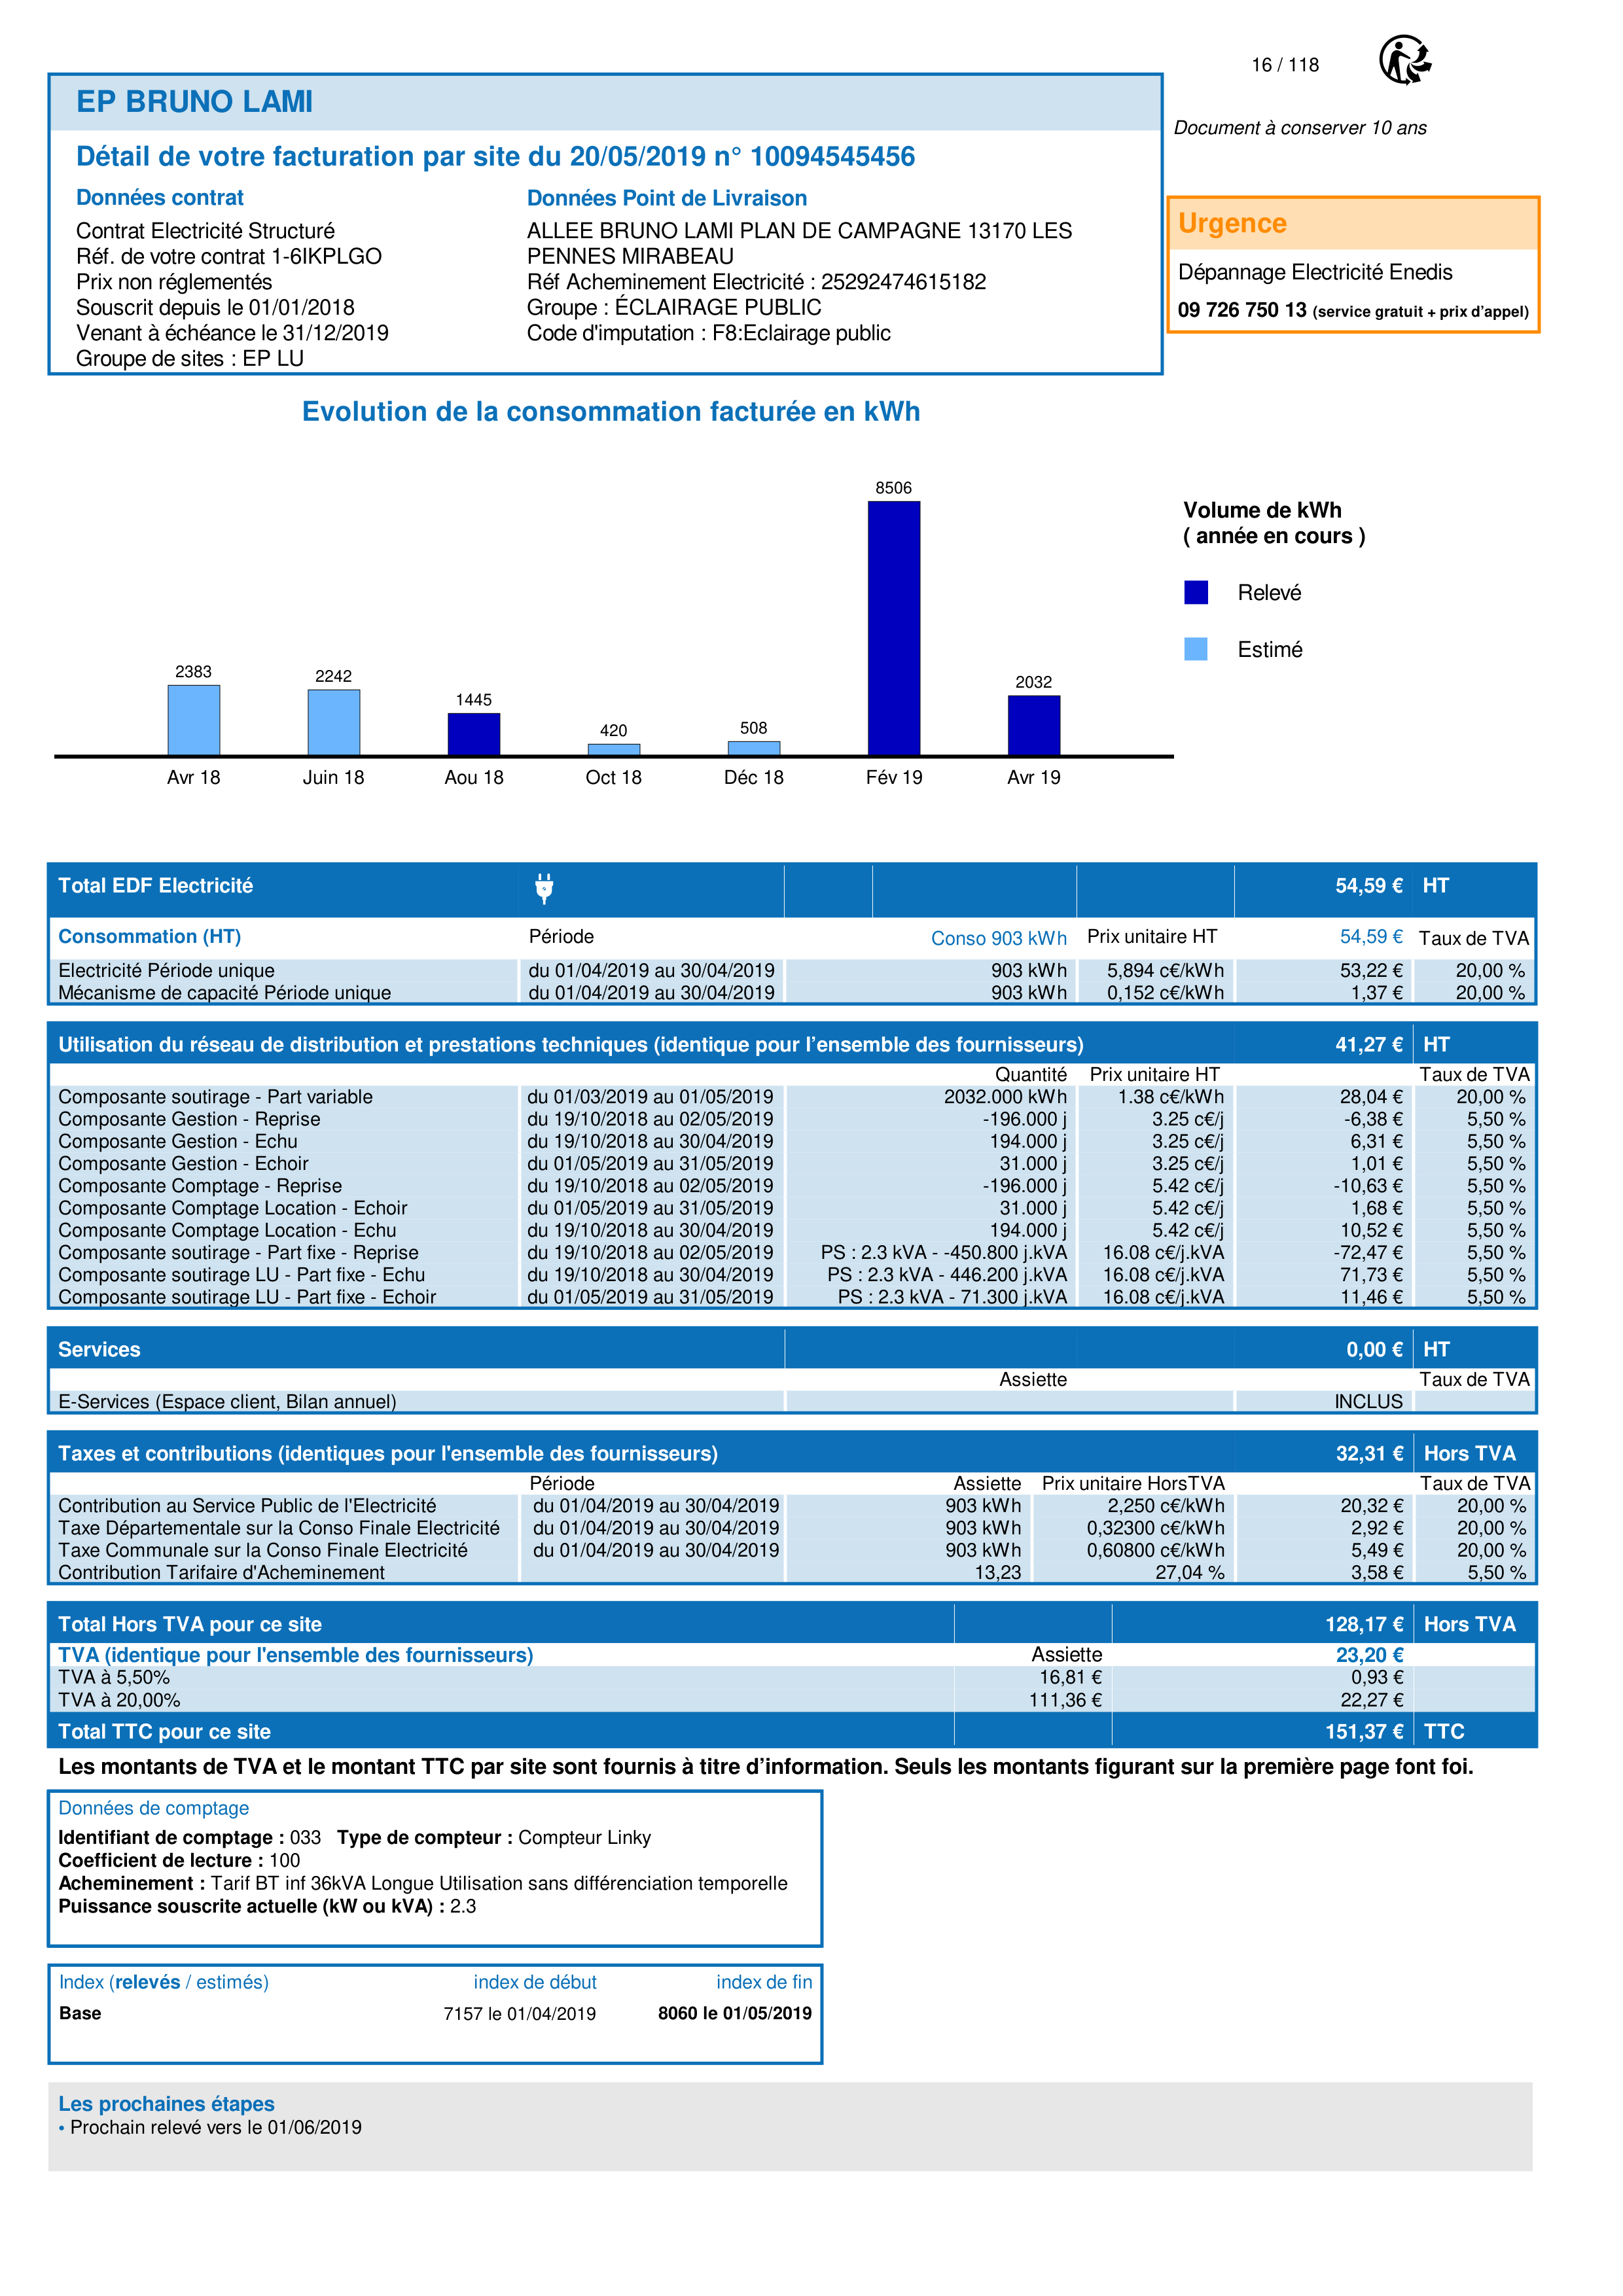area: (49, 1964, 822, 2064)
type_indicator: (47, 1966, 279, 1997)
